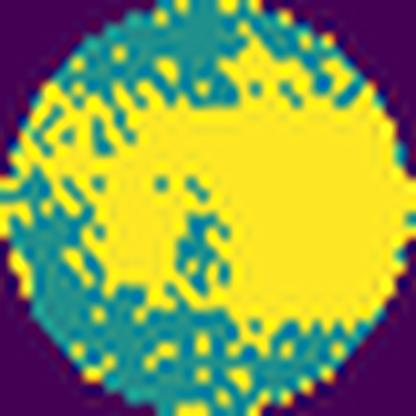Edge-Loc: (16, 20, 415, 351)
